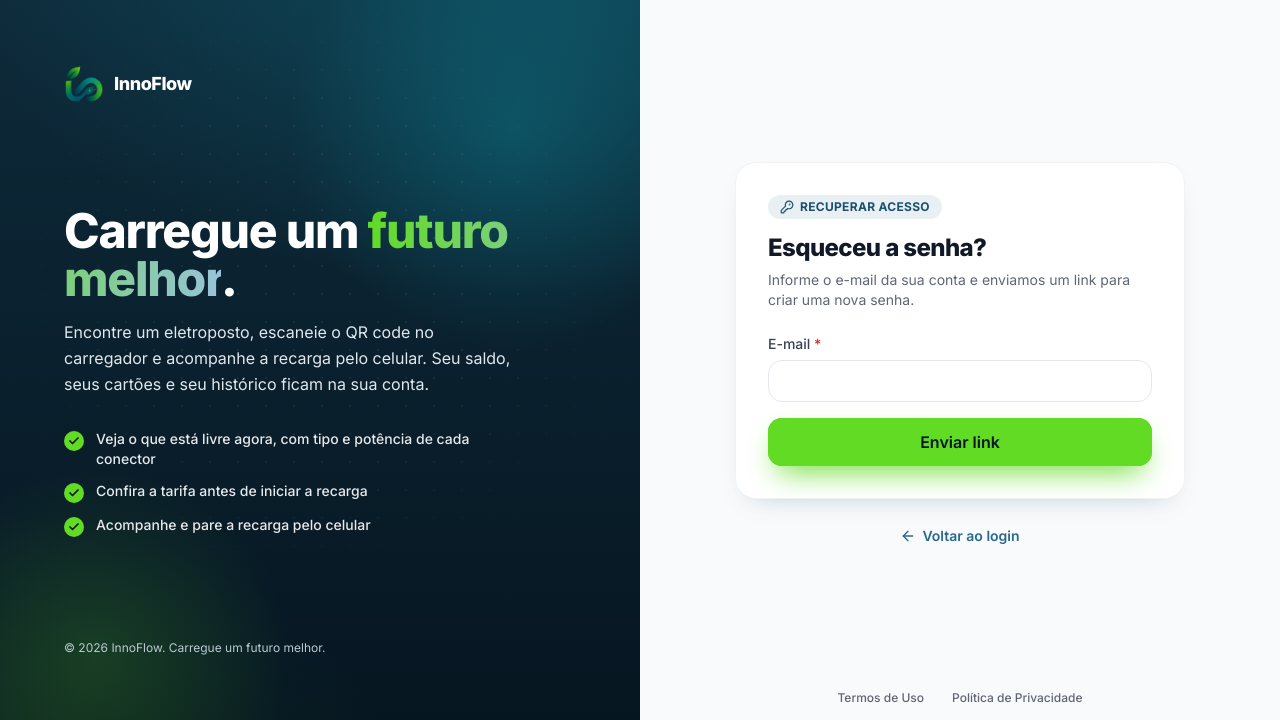
Test: ForgotPassword › 429: aviso do formulário com o texto pedido, foco no aviso, e-mail mantido
Type "alguem@example.com" into the field labelled "E-mail *" at [960, 380], box [768, 360, 1152, 402]
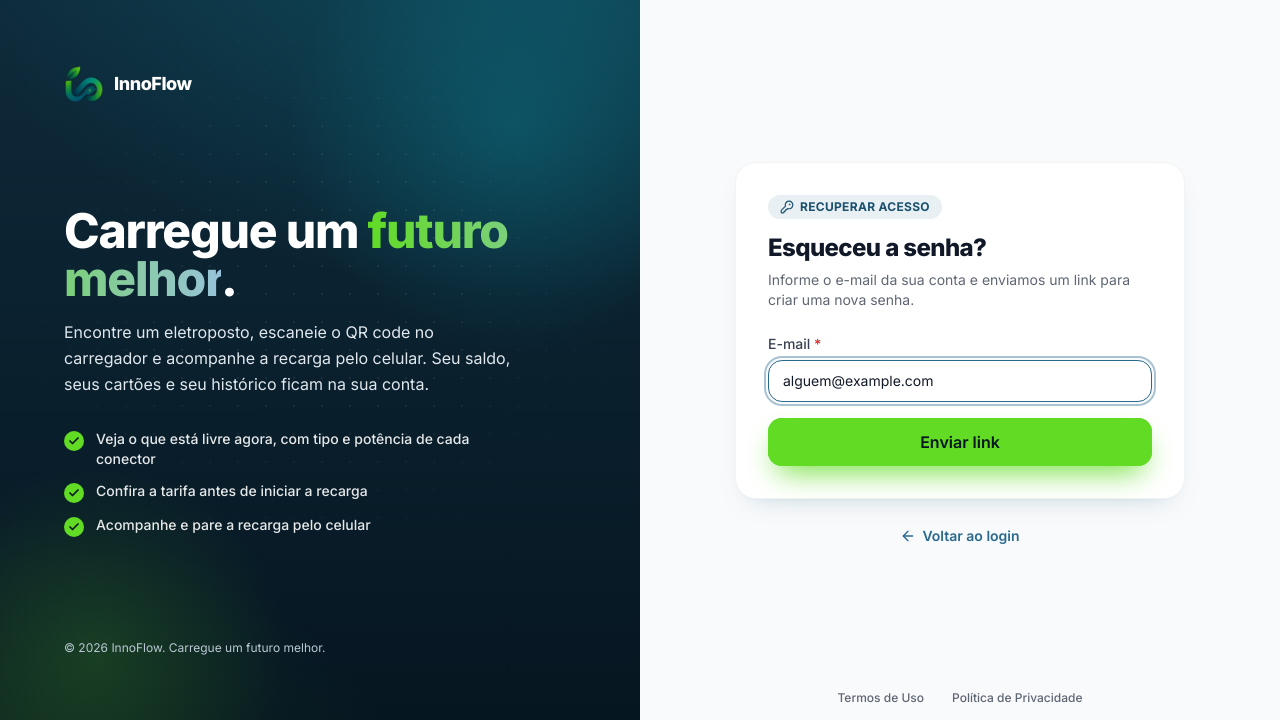
Click the button "Enviar link" at [960, 442], box [768, 418, 1152, 466]
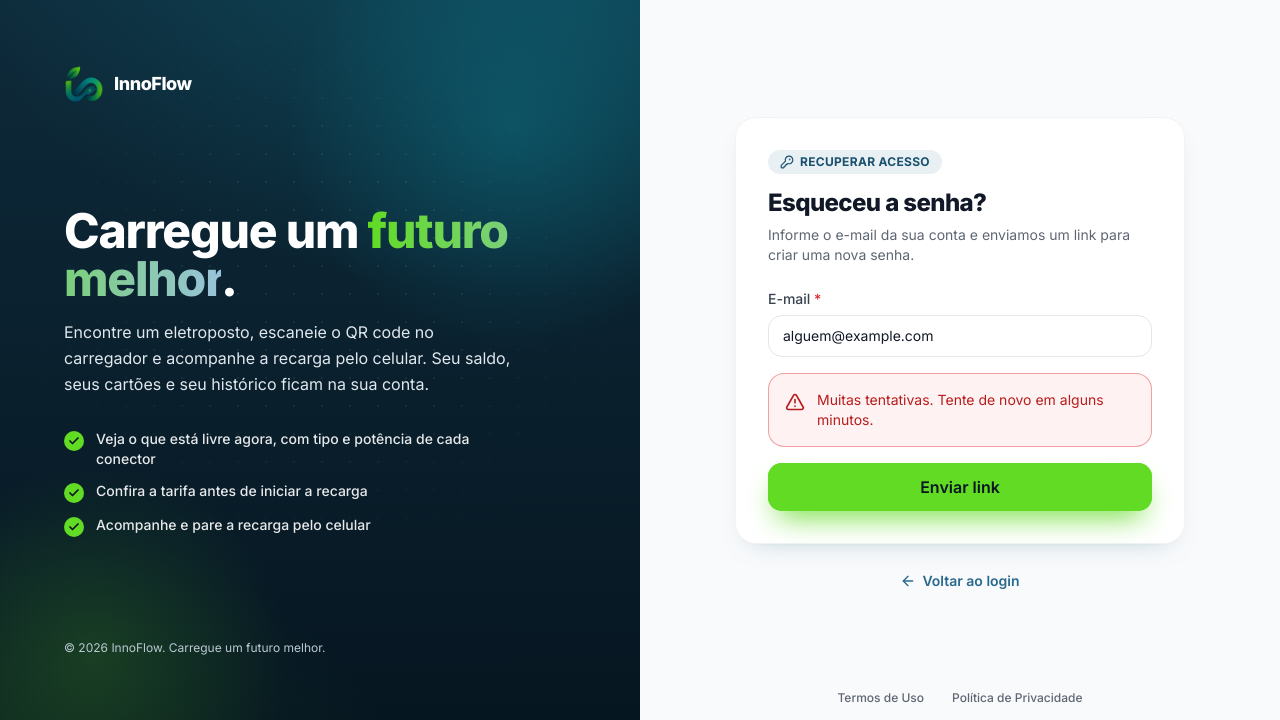
Expected: the message reads "Muitas tentativas. Tente de novo em alguns minutos.", [817, 390, 1104, 428]
